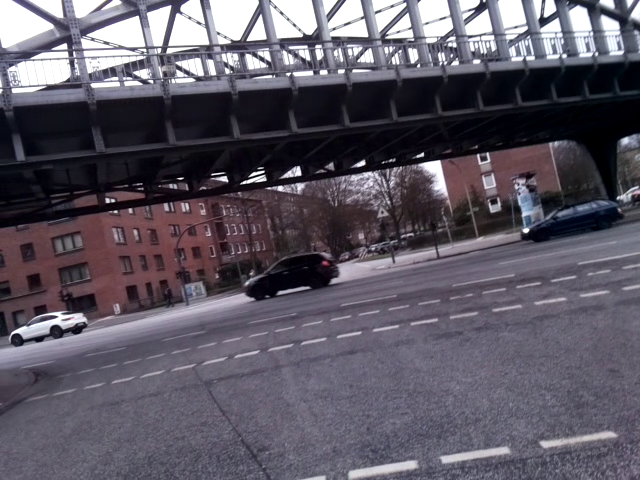car: (518, 201, 632, 237), (243, 255, 352, 292), (7, 313, 97, 341)
